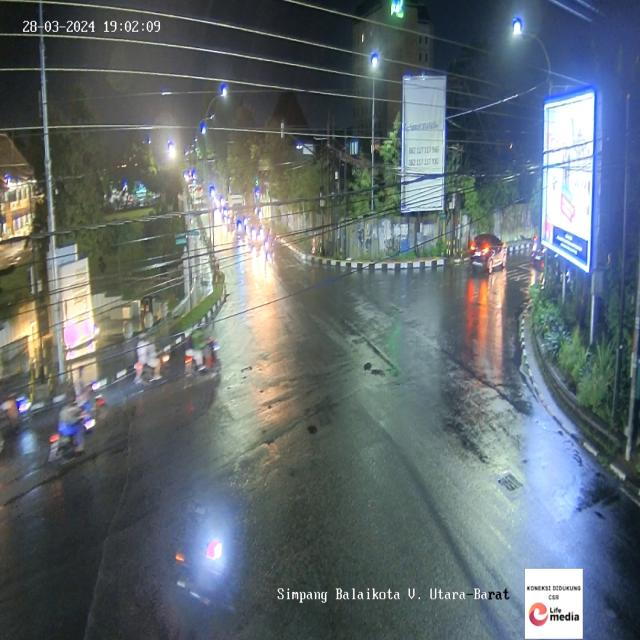car: (469, 233, 508, 274), (532, 228, 553, 271)
motorcycle: (172, 494, 236, 619), (183, 316, 220, 391), (48, 394, 80, 468), (137, 332, 169, 400), (72, 371, 104, 432)
